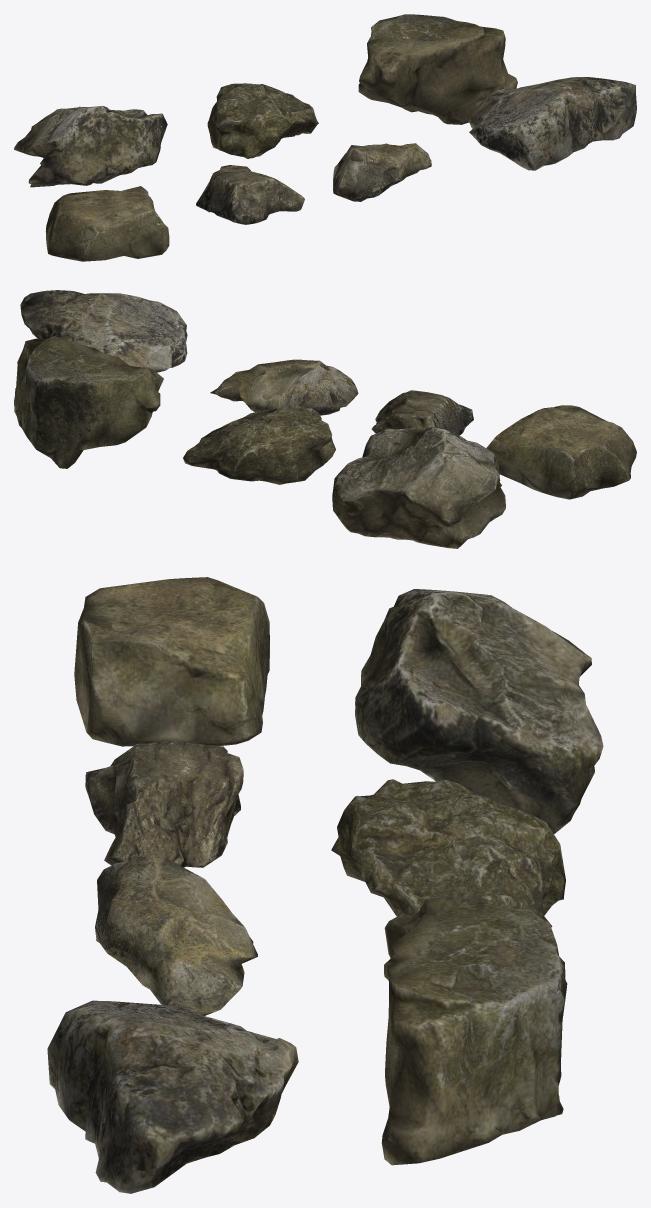
File: rock_moss_set_02.glb
3 renders of one model, top to bottom at view 1: azimuth 30°, elevation 25°; view 2: azimuth 150°, elevation 25°; view 3: azimuth 270°, elevation 25°, orthographic. The views are drawn at different scales.
Parts seen in each view (by area): view 1: rock_moss_set_02_rock08; view 2: rock_moss_set_02_rock08; view 3: rock_moss_set_02_rock08.
Part boxes in pixels (<box>): rock_moss_set_02_rock08: <box>14,14,636,261</box>; rock_moss_set_02_rock08: <box>14,290,636,548</box>; rock_moss_set_02_rock08: <box>47,577,603,1193</box>.
Bounding box in the file's own units: 8.27 × 1.36 × 3.41.
Materials: 1 (1 with a texture image).
